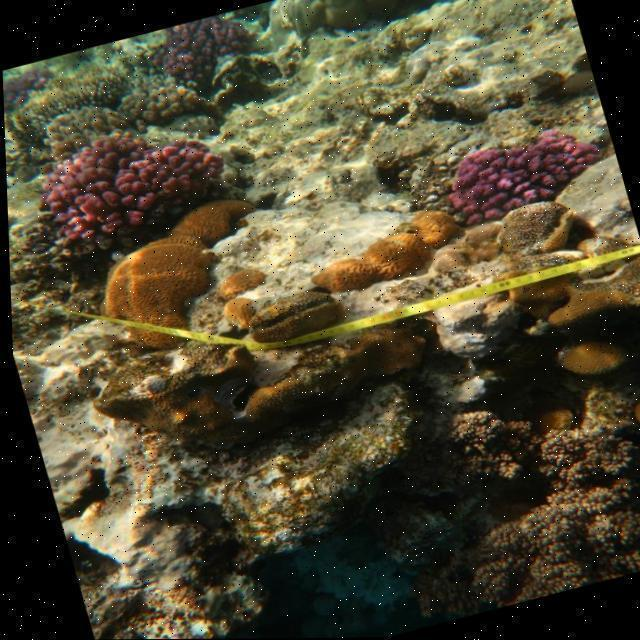Healthy Coral: (23, 100, 236, 251), (439, 118, 612, 227), (95, 226, 232, 357), (310, 208, 461, 294), (153, 8, 258, 86), (160, 197, 256, 254), (557, 333, 630, 382)
